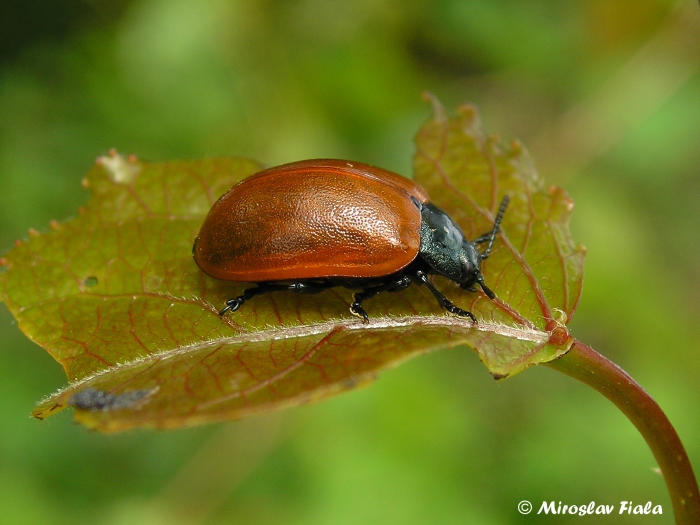Chrysomela_populi: (185, 156, 531, 333)
